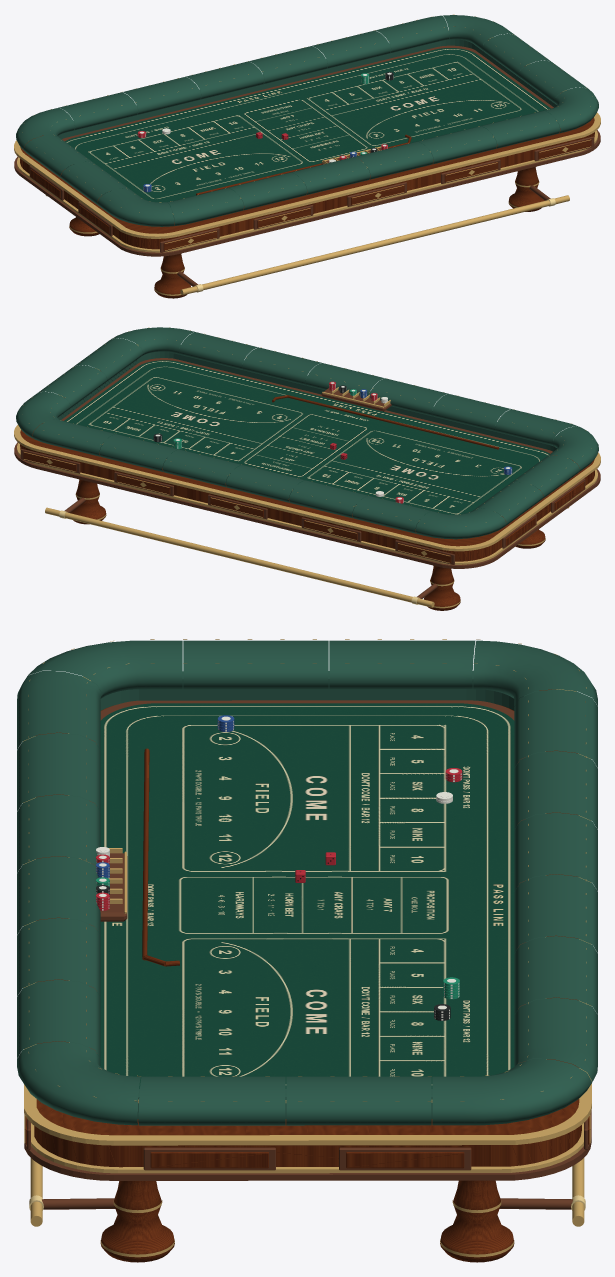
Rendered from craps-table.glb.
3 views of the same model, one above another, from view 1: azimuth 30°, elevation 25°; view 2: azimuth 150°, elevation 25°; view 3: azimuth 270°, elevation 25° (orthographic). The views are drawn at different scales.
Visible parts, largest first — view 1: Craps printed felt, Segmented leather rail, Walnut structural body, Top antique-brass rim, Deep padded well walls, Carved lower molding, Brass foot rail, Turned walnut legs, Apron panel veneer, Lower brass bead, Inset apron panels, Craps recessed playbed (+3 smaller); view 2: Craps printed felt, Segmented leather rail, Walnut structural body, Top antique-brass rim, Carved lower molding, Deep padded well walls, Brass foot rail, Turned walnut legs, Apron panel veneer, Lower brass bead, Inset apron panels, Craps recessed playbed (+5 smaller); view 3: Craps printed felt, Segmented leather rail, Walnut structural body, Turned walnut legs, Top antique-brass rim, Deep padded well walls, Carved lower molding, End apron veneer, Lower brass bead, End apron panel, Craps recessed playbed, Foot rail support (+4 smaller).
Boxes of the visible parts, x1,y1,x2,y2 form: Craps printed felt: (65, 48, 551, 207); Segmented leather rail: (16, 15, 598, 226); Walnut structural body: (20, 39, 594, 249); Top antique-brass rim: (14, 37, 600, 238); Deep padded well walls: (46, 31, 559, 221); Carved lower molding: (14, 130, 600, 256); Brass foot rail: (46, 195, 569, 295); Turned walnut legs: (69, 167, 544, 298); Apron panel veneer: (163, 139, 591, 250); Lower brass bead: (17, 130, 597, 252); Inset apron panels: (160, 136, 594, 252); Craps recessed playbed: (62, 45, 553, 141); Craps printed felt: (64, 360, 549, 515); Segmented leather rail: (16, 327, 598, 539); Walnut structural body: (20, 358, 594, 561); Top antique-brass rim: (14, 344, 600, 551); Carved lower molding: (14, 442, 600, 568); Deep padded well walls: (45, 345, 570, 528); Brass foot rail: (45, 507, 569, 607); Turned walnut legs: (70, 479, 545, 610); Apron panel veneer: (23, 451, 451, 563); Lower brass bead: (17, 443, 597, 564); Inset apron panels: (20, 449, 454, 564); Craps recessed playbed: (61, 358, 556, 455); Craps printed felt: (97, 703, 517, 1088); Segmented leather rail: (17, 640, 597, 1125); Walnut structural body: (34, 689, 581, 1167); Turned walnut legs: (100, 1180, 514, 1262); Top antique-brass rim: (23, 676, 591, 1145); Deep padded well walls: (69, 671, 545, 1118); Carved lower molding: (24, 1110, 591, 1180); End apron veneer: (150, 1152, 464, 1168); Lower brass bead: (31, 1123, 583, 1173); End apron panel: (143, 1147, 471, 1170); Craps recessed playbed: (89, 700, 525, 1063); Foot rail support: (42, 1198, 572, 1209).
Bounding box in the file's own units: 4.8 × 1 × 2.5.
Materials: 12 (2 with a texture image).
